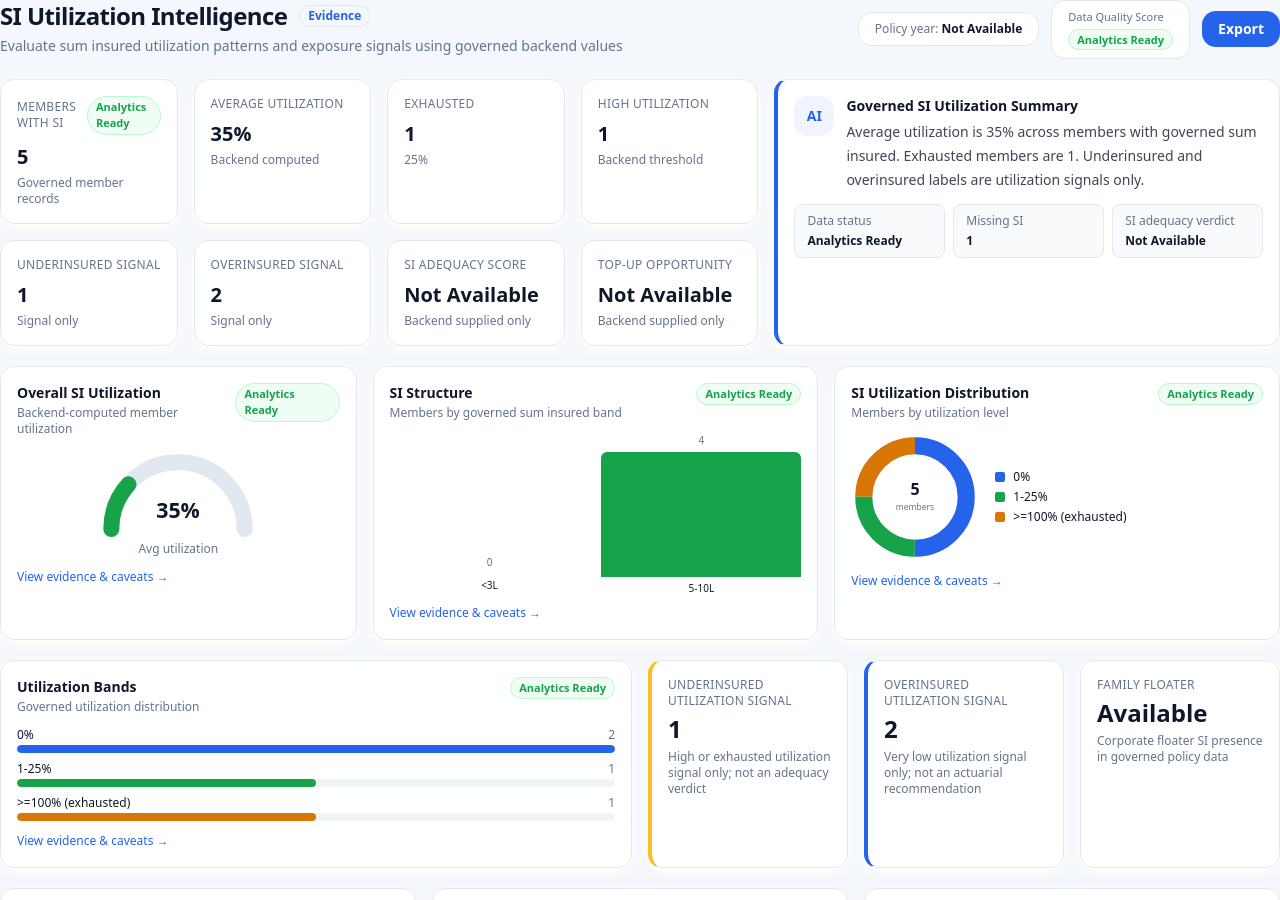
Test: SI Utilization dashboard (governed /metrics/si-utilization) › opens the evidence drawer
The width and height of the screenshot is (1280, 900).
Expected: the element with test id "si-kpis" is shown, top-left (0, 78), bottom-right (758, 346)
Click the button "View evidence & caveats →" below "Avg utilization" at (93, 576), box top-left (17, 568), bottom-right (168, 584)
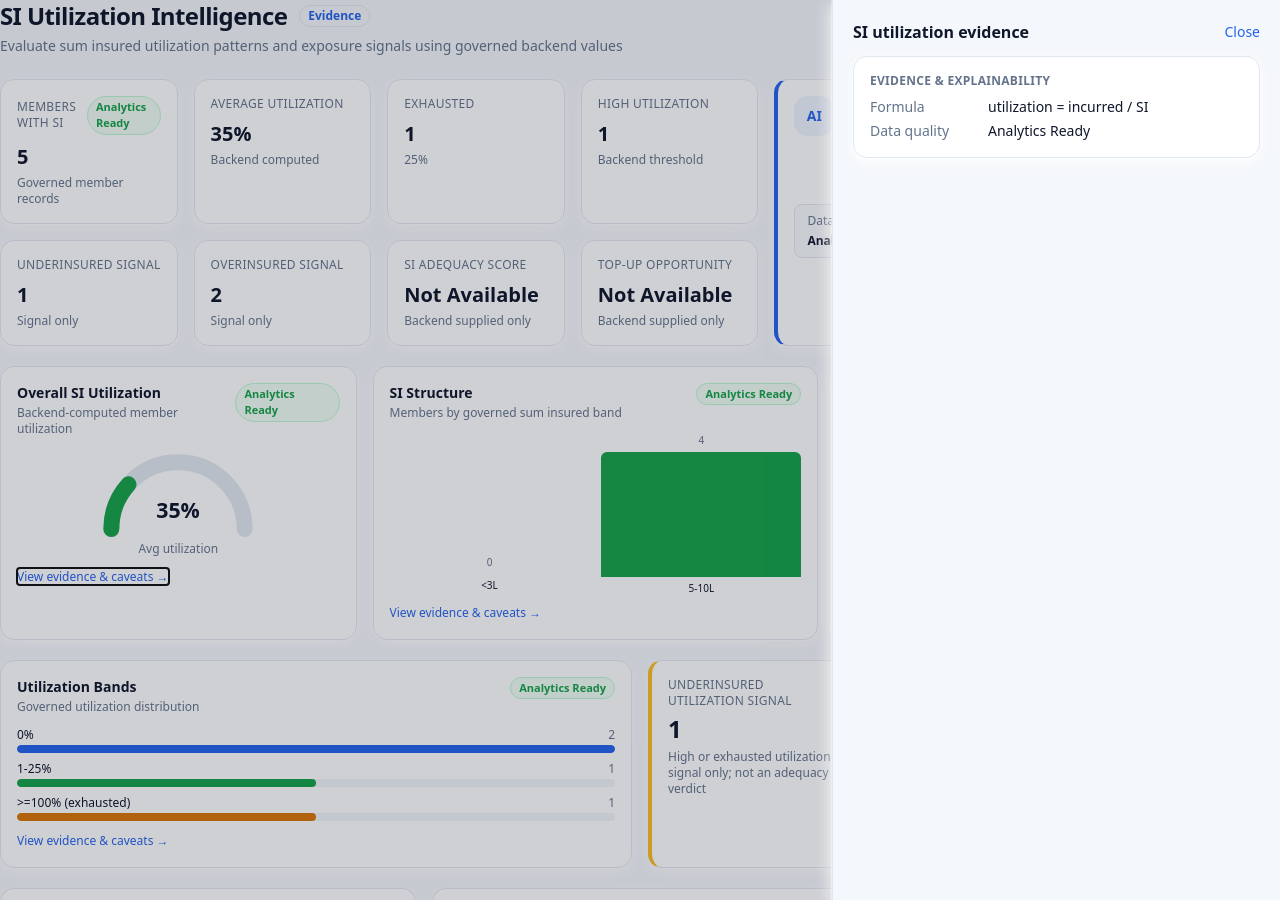
Expected: the element with test id "evidence-drawer" is shown
